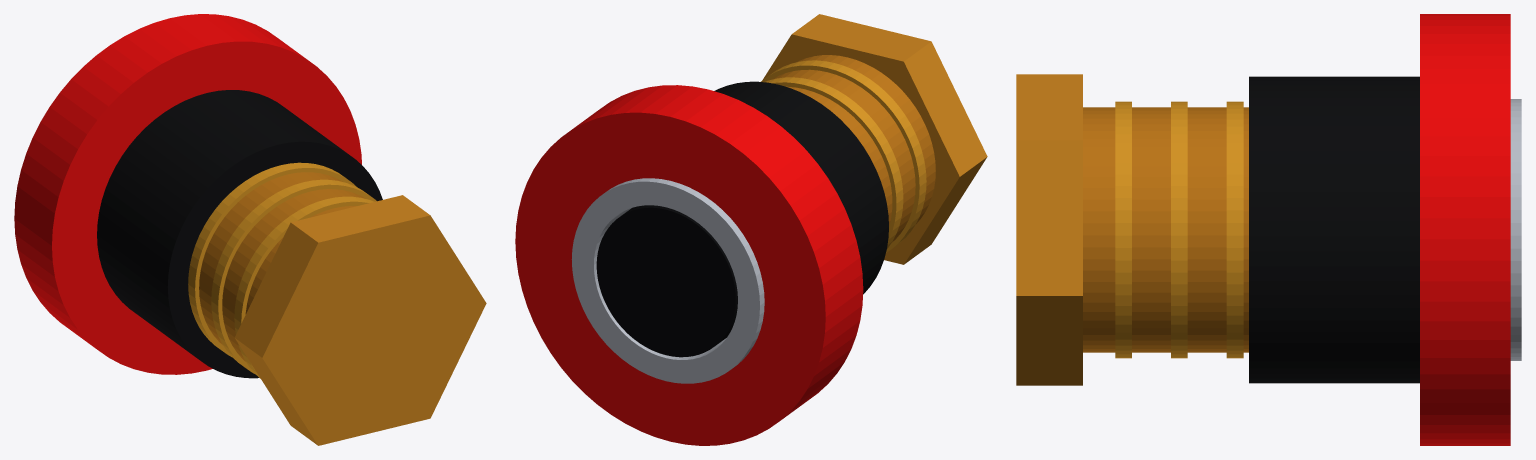
Rendered from JackConnector_Red.fbx.
3 views of the same model, side by side, from view 1: azimuth 30°, elevation 25°; view 2: azimuth 150°, elevation 25°; view 3: azimuth 270°, elevation 25° (orthographic). The views are drawn at different scales.
Visible parts, largest first — view 1: ColorCollar, HexNut, RearHousing, BrassBarrel, ThreadRidge1, ThreadRidge2, ThreadRidge3; view 2: ColorCollar, Socket, MetalRim, HexNut, RearHousing, BrassBarrel, ThreadRidge3, ThreadRidge2; view 3: RearHousing, ColorCollar, BrassBarrel, HexNut, ThreadRidge1, ThreadRidge2, ThreadRidge3, MetalRim.
Boxes of the visible parts, bbox=[...] form: ColorCollar: bbox=[14, 14, 361, 374]; HexNut: bbox=[234, 195, 486, 445]; RearHousing: bbox=[97, 90, 382, 378]; BrassBarrel: bbox=[199, 172, 365, 361]; ThreadRidge1: bbox=[188, 162, 357, 357]; ThreadRidge2: bbox=[211, 179, 376, 373]; ThreadRidge3: bbox=[234, 196, 374, 378]; ColorCollar: bbox=[515, 85, 863, 445]; Socket: bbox=[596, 205, 737, 357]; MetalRim: bbox=[571, 178, 764, 383]; HexNut: bbox=[763, 14, 987, 264]; RearHousing: bbox=[714, 81, 888, 294]; BrassBarrel: bbox=[772, 55, 935, 242]; ThreadRidge3: bbox=[761, 60, 926, 252]; ThreadRidge2: bbox=[764, 77, 903, 248]; RearHousing: bbox=[1249, 76, 1419, 383]; ColorCollar: bbox=[1420, 14, 1510, 445]; BrassBarrel: bbox=[1083, 107, 1248, 352]; HexNut: bbox=[1016, 74, 1082, 385]; ThreadRidge1: bbox=[1226, 101, 1243, 358]; ThreadRidge2: bbox=[1171, 101, 1187, 358]; ThreadRidge3: bbox=[1115, 101, 1131, 358]; MetalRim: bbox=[1510, 99, 1521, 360].
Bounding box in the file's own units: 0.031 × 0.031 × 0.0363.
